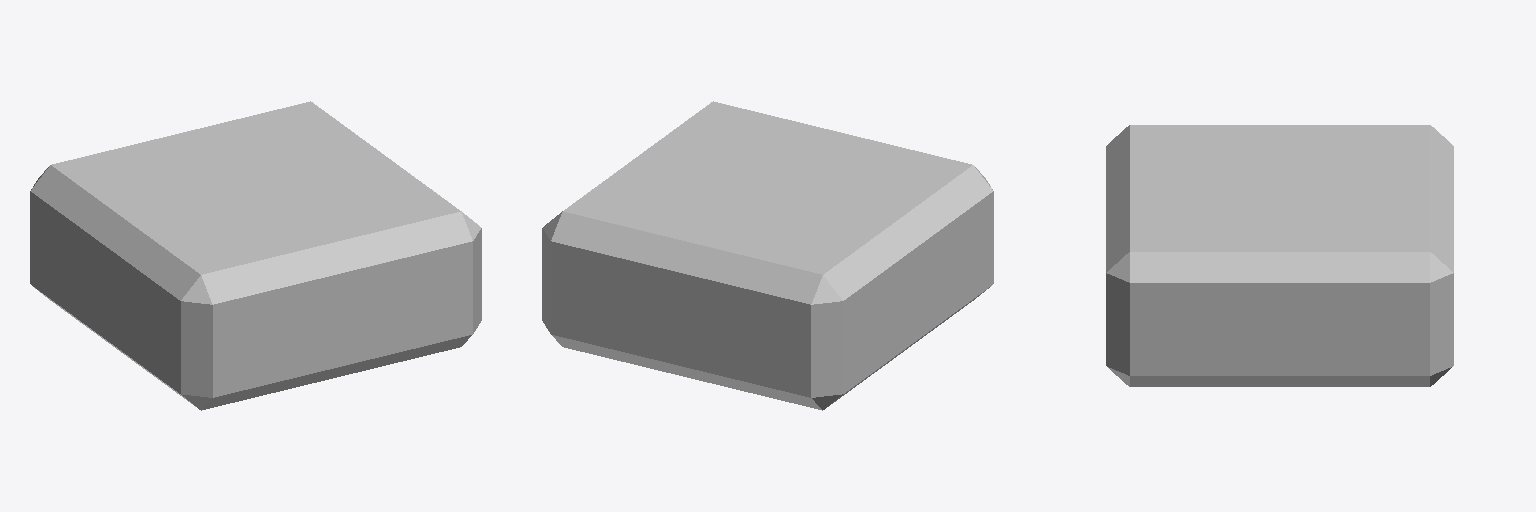
The model's file is tlacitko_1.obj.
The picture shows the model from 3 angles: view 1: azimuth 30°, elevation 25°; view 2: azimuth 150°, elevation 25°; view 3: azimuth 270°, elevation 25°; orthographic projection.
Parts seen in each view (by area): view 1: Cube.008; view 2: Cube.008; view 3: Cube.008.
Boxes of the visible parts, box(x1,y1,x2,y2) form: Cube.008: box(30, 101, 481, 410); Cube.008: box(542, 101, 993, 410); Cube.008: box(1106, 125, 1453, 386).
Size of the model in its own units: 0.043 by 0.0185 by 0.043.